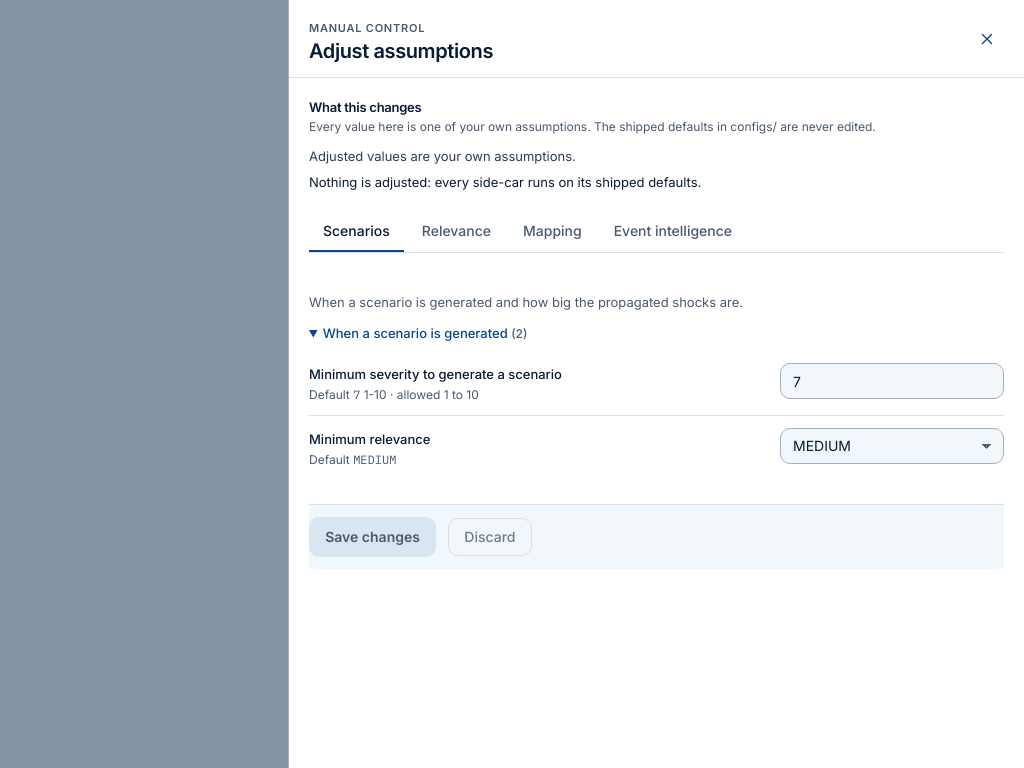
Test: Adjust drawer › does not save a value the server refuses and says which one
The width and height of the screenshot is (1024, 768).
Clear the number field labelled "Minimum severity to generate a scenario" at (892, 381), box x1=780 y1=363 x2=1004 y2=399
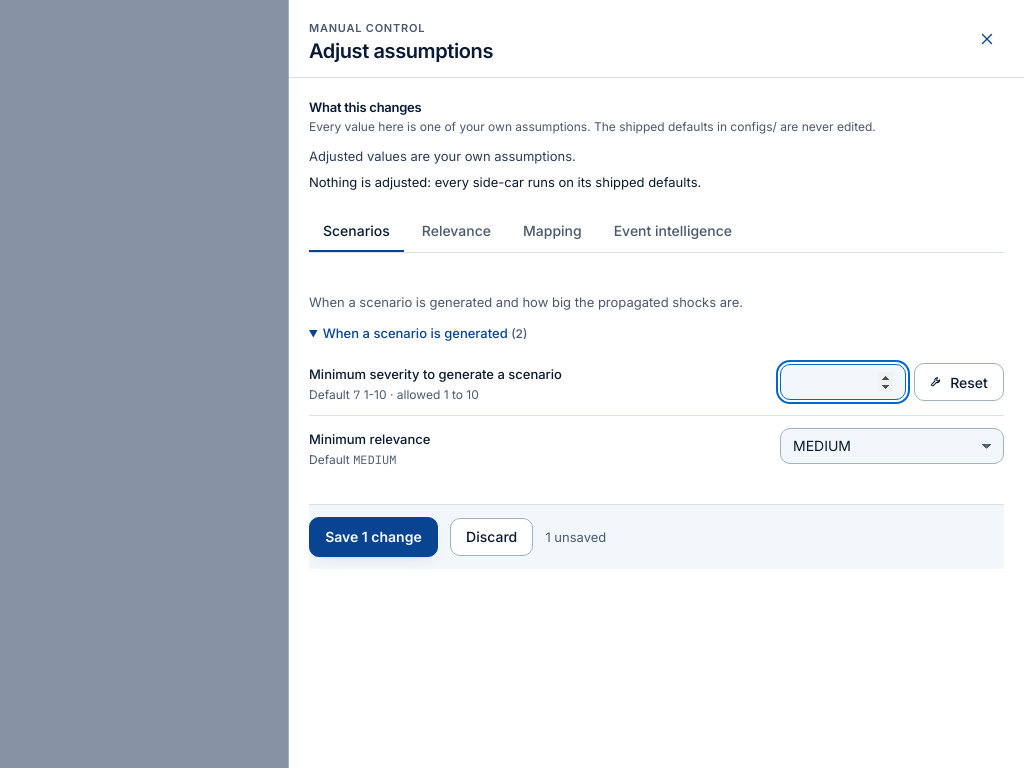
Type "99" into the number field labelled "Minimum severity to generate a scenario" at (843, 382), box x1=780 y1=364 x2=906 y2=400
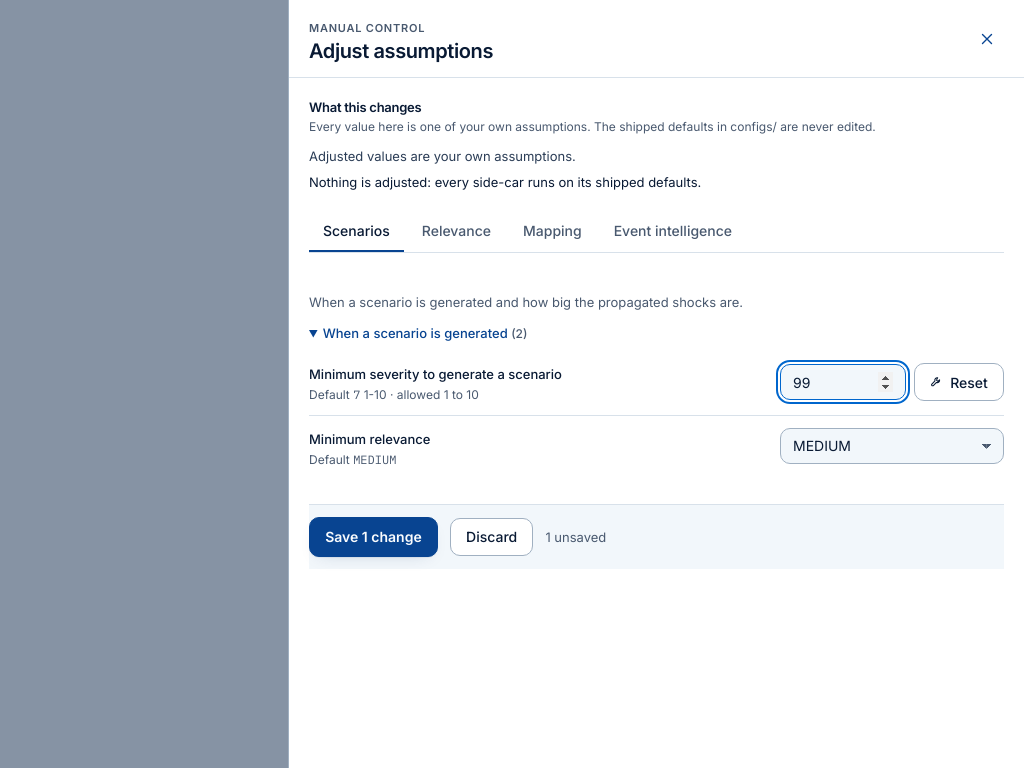
Click the button "Save 1 change" at (373, 537), box x1=309 y1=517 x2=438 y2=557
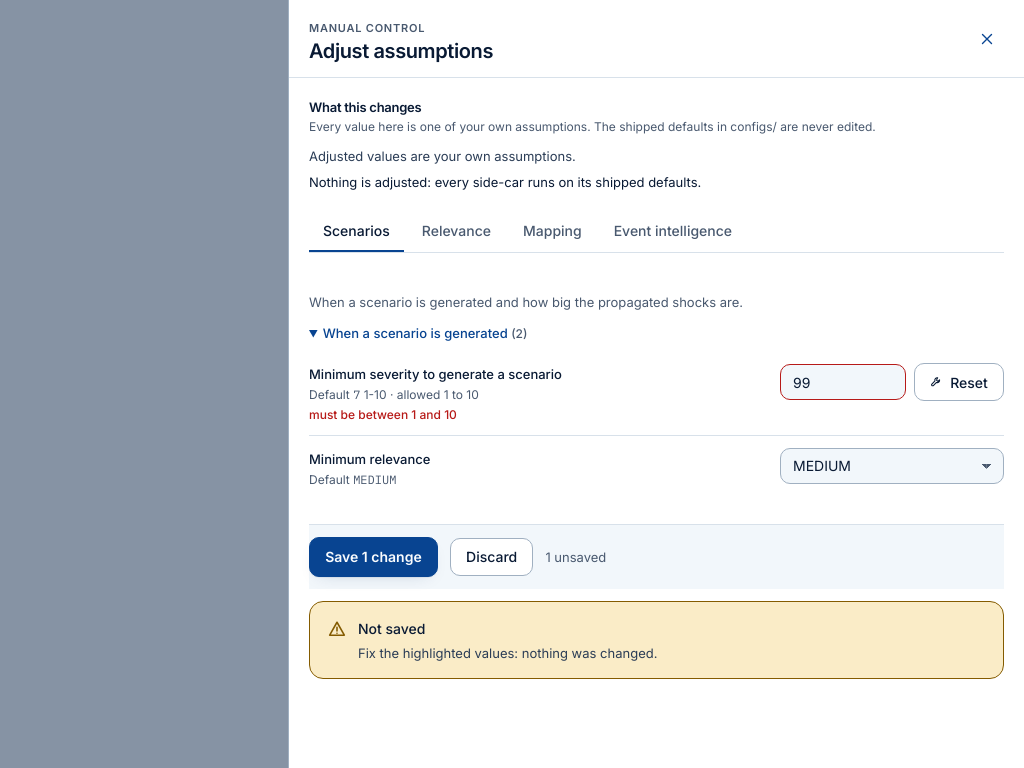
expect the text "must be between 1 and 10" is shown: met, box x1=309 y1=407 x2=457 y2=422
expect the text "Not saved" is shown: met, box x1=358 y1=620 x2=426 y2=637
